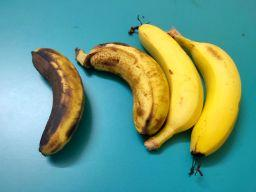banana: (167, 26, 244, 178), (127, 13, 205, 153), (73, 40, 171, 139), (30, 46, 88, 158)
